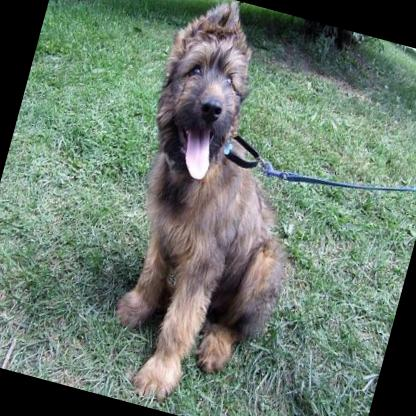briard: (77, 0, 357, 416)
